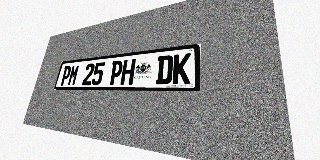2: (82, 63, 95, 85)
5: (91, 62, 105, 85)
D: (155, 55, 173, 84)
H: (120, 59, 136, 85)
K: (172, 53, 191, 84)
M: (67, 65, 80, 85)
P: (108, 60, 124, 85), (59, 65, 72, 86)
